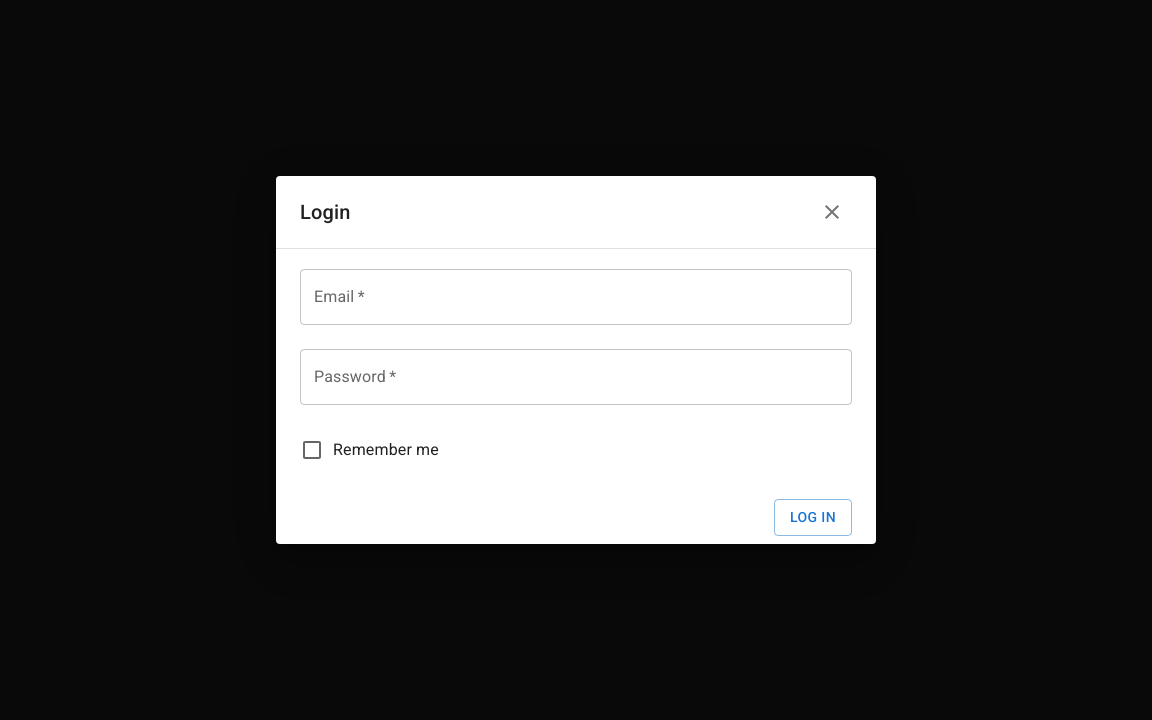
it: LoginDialog › Form Validation › Shows password validation error when submitting with empty password
The image size is (1152, 720).
In the field labelled "Email *": (576,297) [300,269,852,325], type "test@example.com"
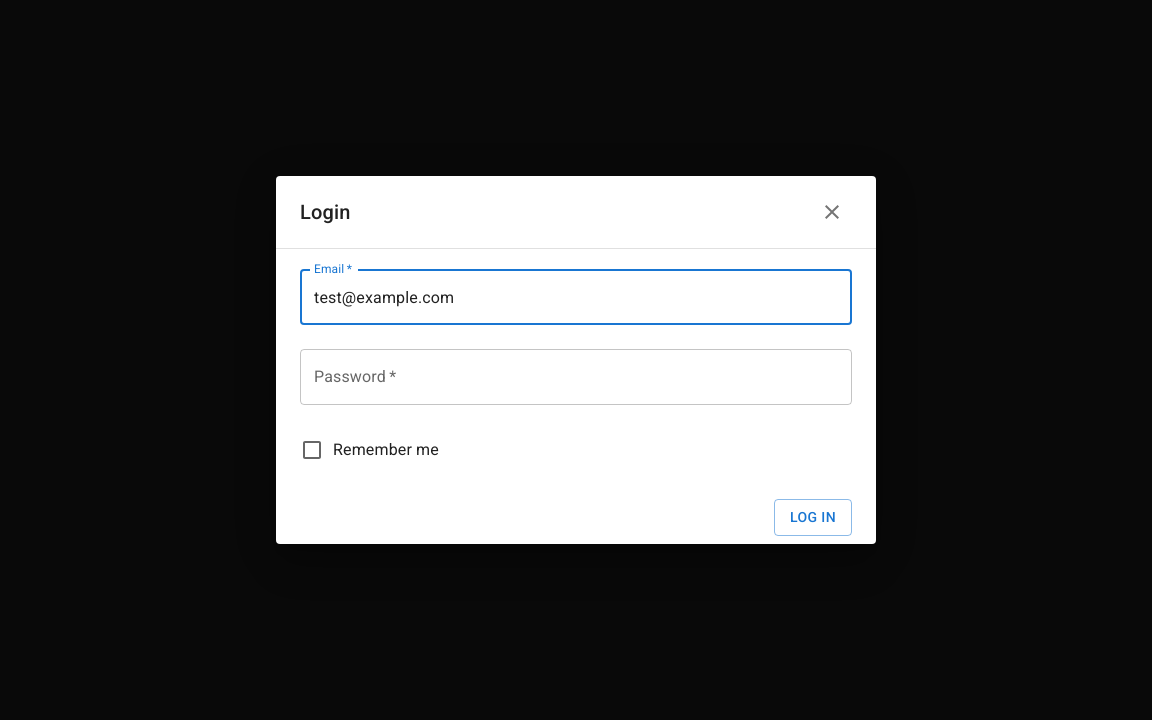
Click the button "Log In": (813,518) [774,499,852,536]
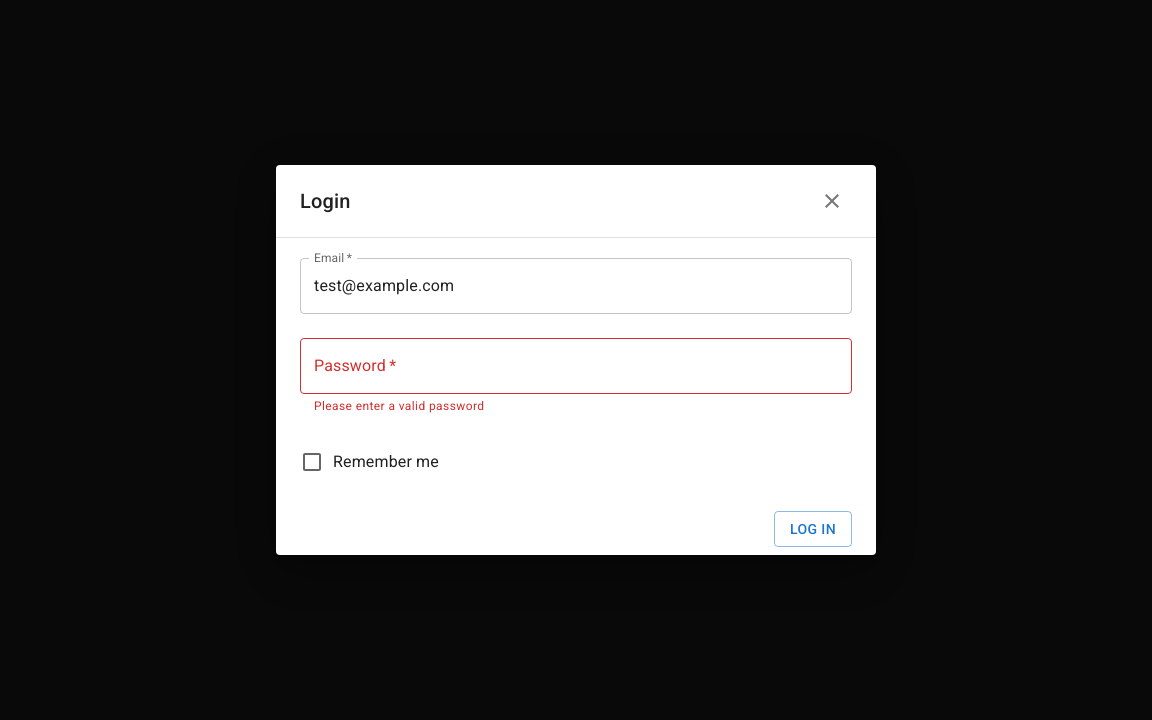
Result: the text "Please enter a valid password" is shown at [314,399,484,413]
